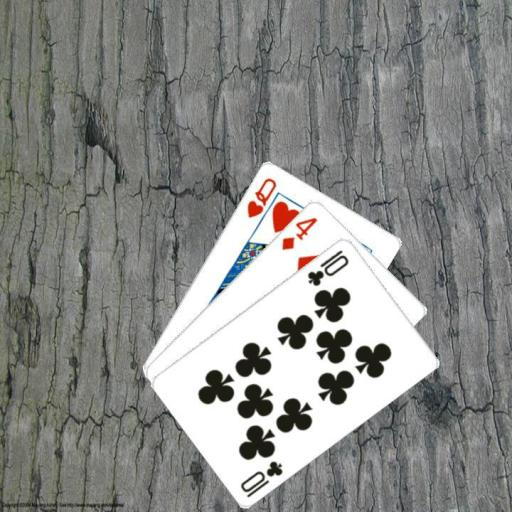10C: (237, 457, 284, 499), (304, 246, 351, 287)
4D: (278, 213, 319, 251)
QH: (243, 174, 278, 219)
